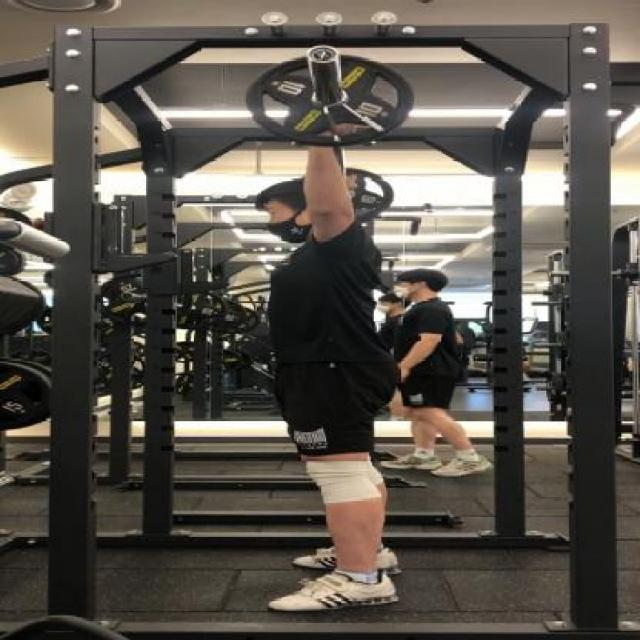Barbell: (304, 44, 342, 64)
